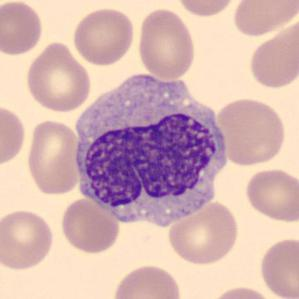Monocyte: (67, 67, 232, 230)
RBC: (214, 96, 288, 168), (23, 39, 93, 113), (165, 198, 241, 266), (136, 5, 198, 80), (24, 117, 82, 197), (70, 6, 136, 66), (58, 196, 121, 255), (246, 18, 297, 90), (0, 207, 56, 272), (243, 167, 298, 224), (110, 261, 184, 299), (257, 235, 298, 299), (230, 0, 298, 38), (0, 0, 45, 57), (0, 102, 28, 169), (173, 0, 240, 18), (208, 284, 275, 299)
